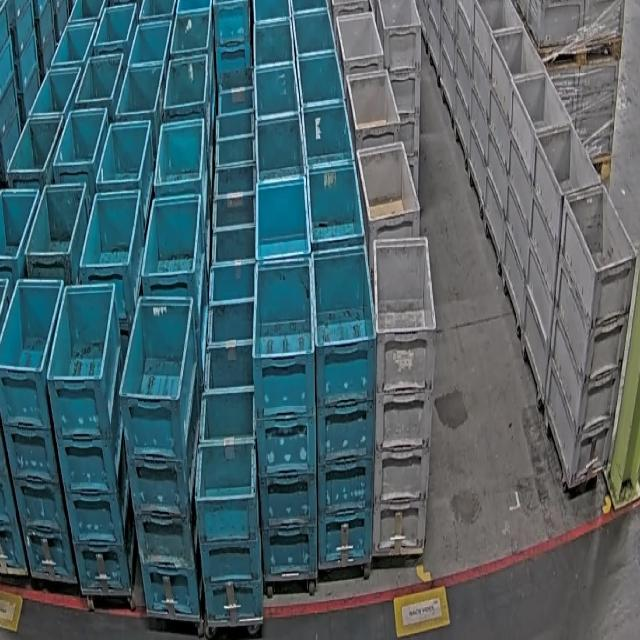4G: (544, 183, 638, 490), (372, 237, 437, 555)
B4: (47, 277, 137, 595), (119, 296, 202, 616), (0, 280, 76, 580), (251, 258, 316, 578), (312, 246, 376, 566)
B8: (194, 385, 263, 621)
